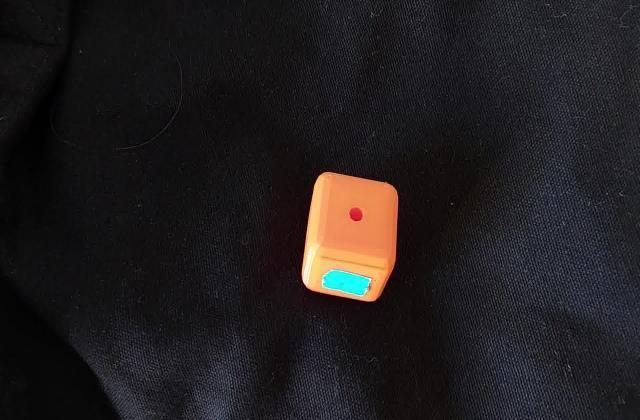blue: (334, 274, 352, 289)
cube: (298, 170, 402, 306)
